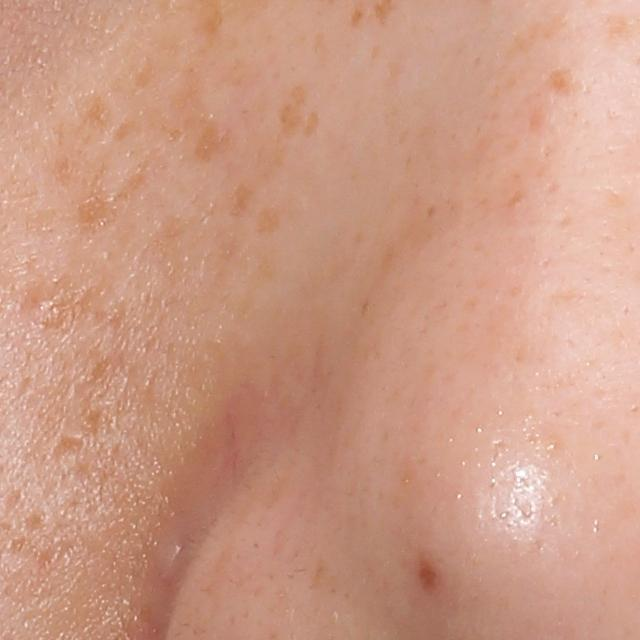atrophic_scar: (45, 432, 92, 474)
melasma: (506, 8, 573, 59), (65, 184, 118, 237), (115, 148, 162, 201), (169, 63, 211, 119), (182, 121, 225, 166), (77, 89, 119, 135), (543, 67, 589, 98), (135, 53, 163, 94), (256, 203, 285, 241), (228, 183, 257, 213), (113, 115, 141, 142), (305, 99, 324, 138), (347, 3, 368, 31)
